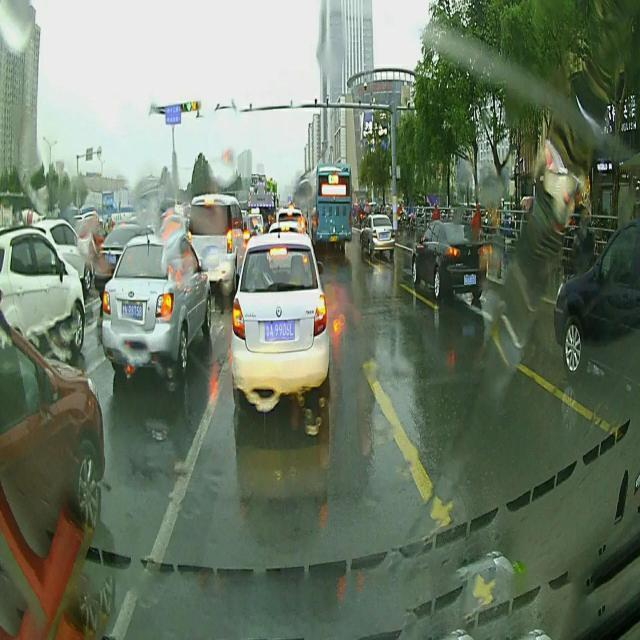car: (0, 308, 105, 529), (230, 230, 330, 406), (102, 234, 212, 375), (552, 217, 640, 384), (0, 227, 84, 350), (410, 222, 486, 302), (188, 194, 243, 289), (32, 217, 95, 290), (94, 220, 150, 293), (358, 214, 394, 258), (268, 217, 306, 239)
